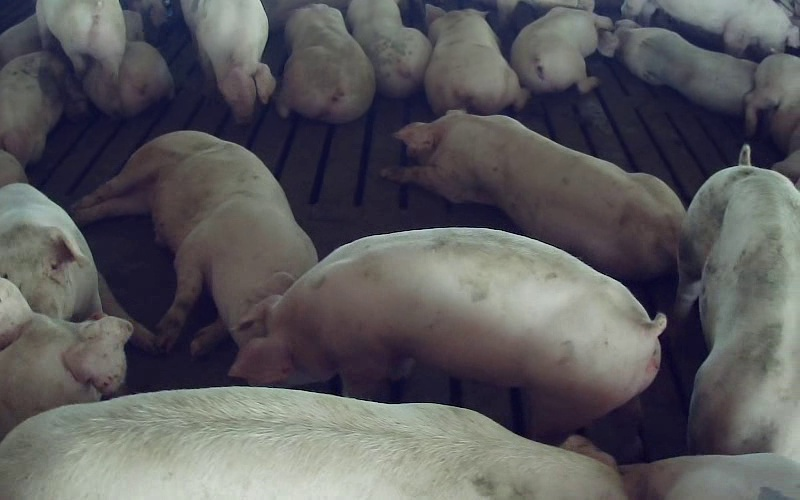pig: (73, 131, 316, 354), (382, 110, 684, 278), (677, 147, 799, 460), (0, 278, 131, 440), (598, 20, 756, 114), (276, 4, 374, 123), (181, 0, 275, 123), (424, 5, 527, 115), (0, 51, 86, 166), (511, 7, 612, 92), (347, 0, 431, 97), (83, 40, 173, 117), (36, 0, 125, 77)
